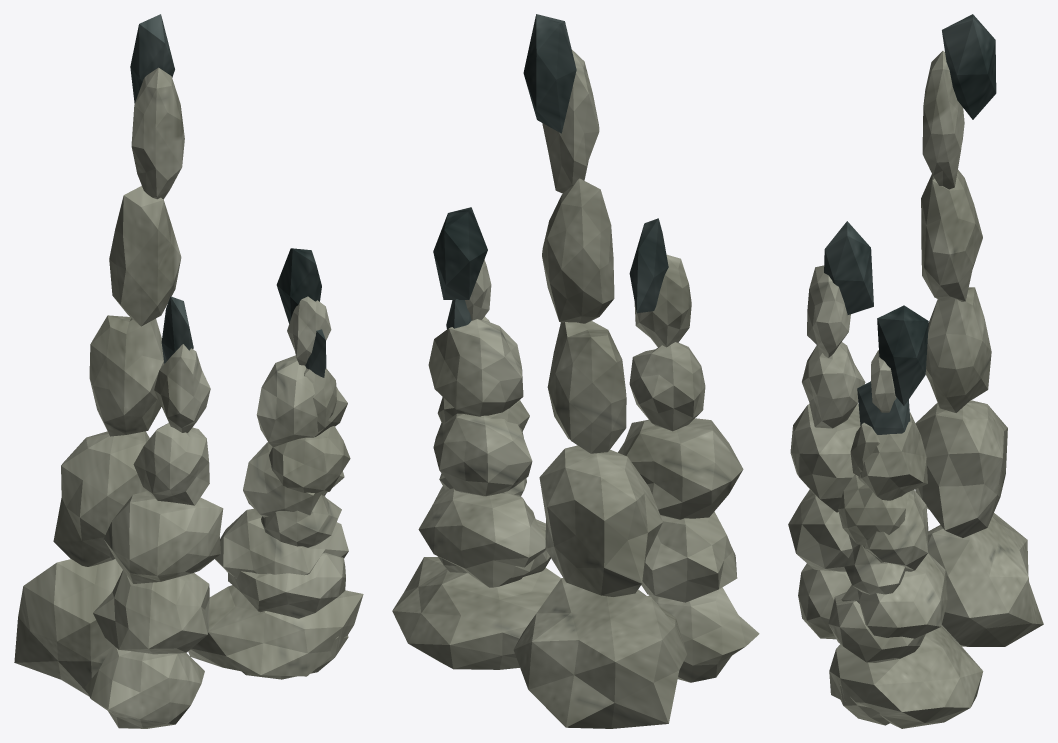
File: 0070_rock_spire_20.glb
3 views of the same model, side by side, from view 1: azimuth 30°, elevation 25°; view 2: azimuth 150°, elevation 25°; view 3: azimuth 270°, elevation 25° (orthographic). The views are drawn at different scales.
Visible parts, largest first — view 1: stone_light, stone_dark; view 2: stone_light, stone_dark; view 3: stone_light, stone_dark.
Part boxes in pixels (bbox=[...]): stone_light: bbox=[14, 67, 363, 728]; stone_dark: bbox=[130, 14, 326, 377]; stone_light: bbox=[392, 49, 759, 728]; stone_dark: bbox=[433, 14, 668, 329]; stone_light: bbox=[788, 51, 1043, 728]; stone_dark: bbox=[824, 14, 996, 434].
Bounding box in the file's own units: 1.48 × 3.15 × 1.1.
2 materials, 2 textured.
